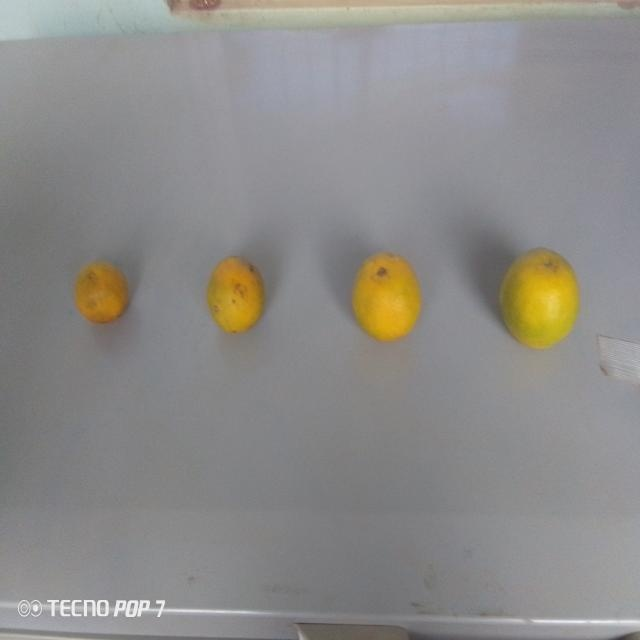agrume: (497, 246, 585, 358), (346, 247, 433, 350), (66, 254, 146, 341), (203, 254, 272, 349)
